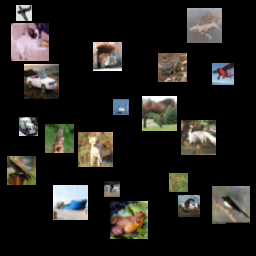airplane: (7, 126, 42, 161), (77, 37, 93, 53)
automobile: (38, 11, 76, 49), (211, 88, 246, 123), (154, 1, 189, 36), (158, 214, 187, 243)
bird: (51, 216, 86, 251), (161, 129, 193, 161), (94, 187, 123, 216), (68, 89, 94, 115)
deer: (128, 159, 150, 181)
dog: (37, 170, 69, 202), (203, 37, 229, 63), (178, 187, 204, 213)
frog: (11, 63, 46, 98), (103, 50, 135, 82)
ship: (101, 87, 127, 113), (127, 121, 153, 147)
